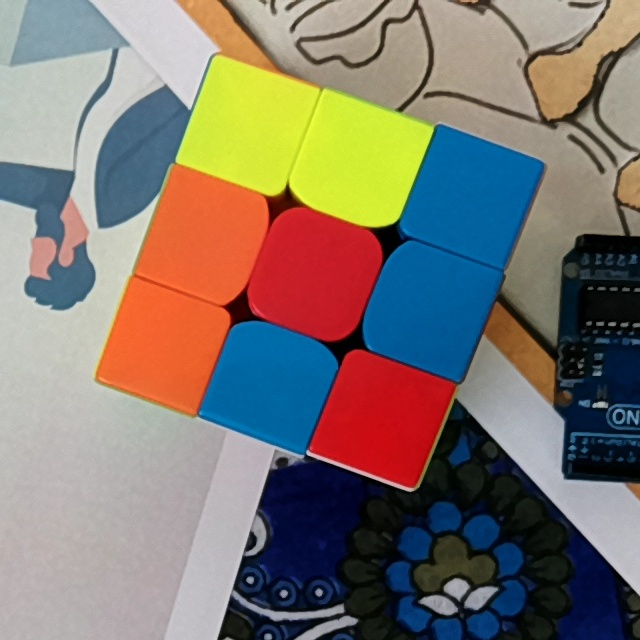tile: (313, 121, 402, 207), (271, 228, 358, 315), (387, 263, 471, 352), (161, 194, 243, 282), (339, 380, 424, 464), (207, 84, 289, 168), (428, 157, 513, 238), (226, 346, 312, 421), (120, 313, 203, 385)
